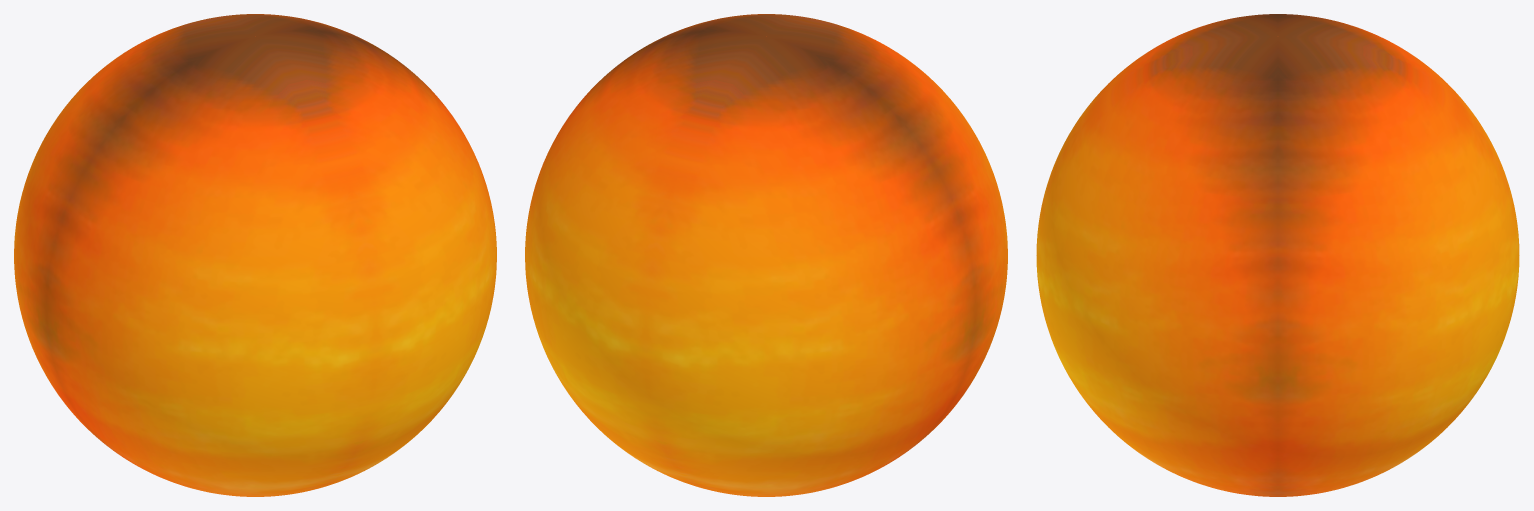
The model's file is WASP-12_b.glb.
3 views of the same model, side by side, from view 1: azimuth 30°, elevation 25°; view 2: azimuth 150°, elevation 25°; view 3: azimuth 270°, elevation 25° (orthographic).
Visible parts, largest first — view 1: WASP-12_b; view 2: WASP-12_b; view 3: WASP-12_b.
Boxes of the visible parts, left/top/right/bottom form: WASP-12_b: left=14, top=14, right=496, bottom=496; WASP-12_b: left=525, top=14, right=1007, bottom=496; WASP-12_b: left=1036, top=14, right=1519, bottom=496.
Bounding box in the file's own units: 2 × 2 × 2.
Materials: 1 (1 with a texture image).
